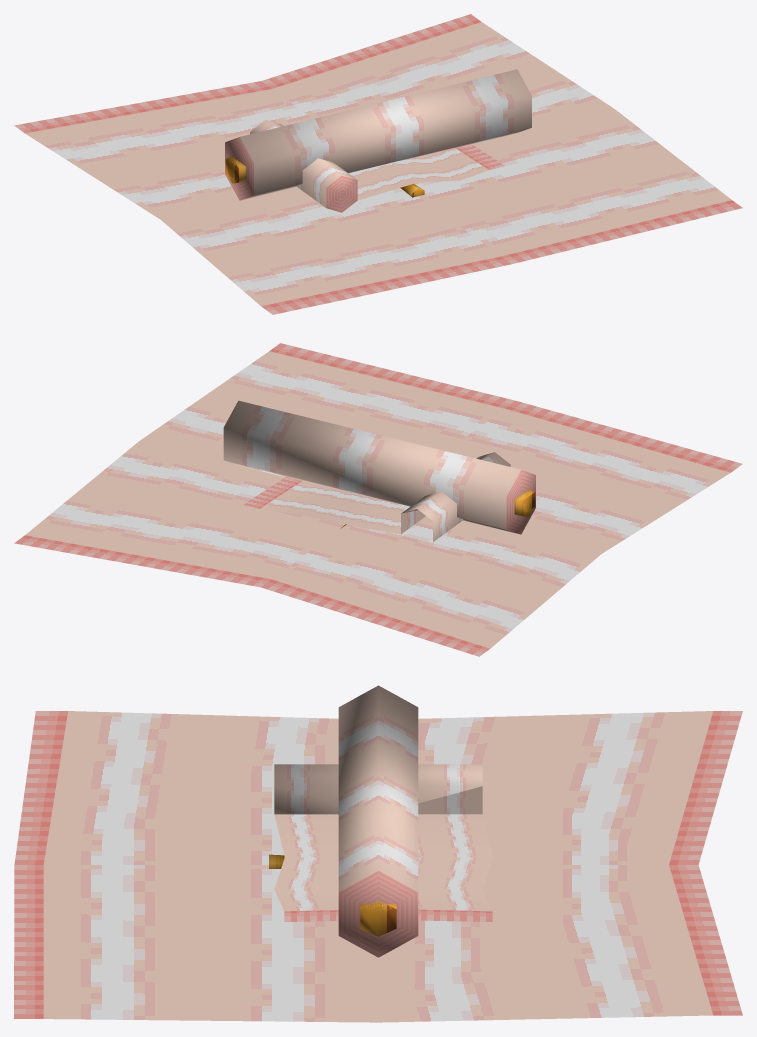
3 renders of one model, top to bottom at view 1: azimuth 30°, elevation 25°; view 2: azimuth 150°, elevation 25°; view 3: azimuth 270°, elevation 25°, orthographic. The views are drawn at different scales.
Visible parts, largest first — view 1: 5301ucc_nunoji00; view 2: 5301ucc_nunoji00; view 3: 5301ucc_nunoji00.
Part boxes in pixels (box(x1,y1,x2,y2)): 5301ucc_nunoji00: box(14, 14, 742, 314); 5301ucc_nunoji00: box(14, 343, 742, 656); 5301ucc_nunoji00: box(14, 685, 742, 1022).
Bounding box in the file's own units: 2.02 × 0.2949 × 2.
2 materials, 2 textured.
